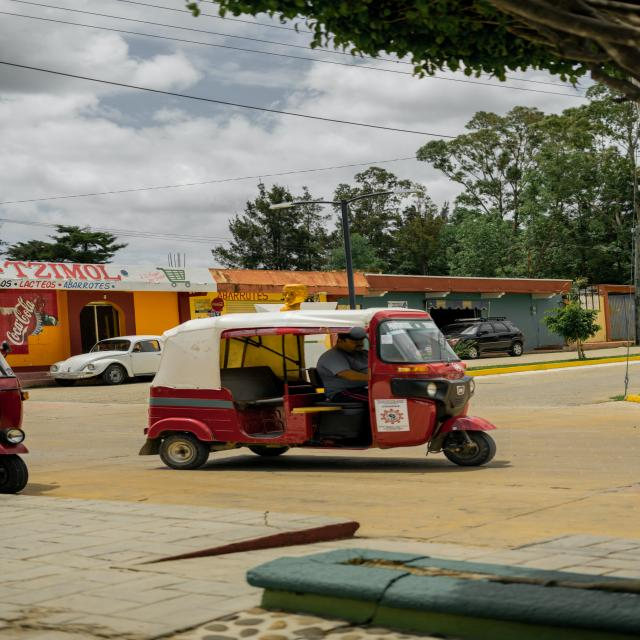autorikshaw: (145, 306, 498, 468)
